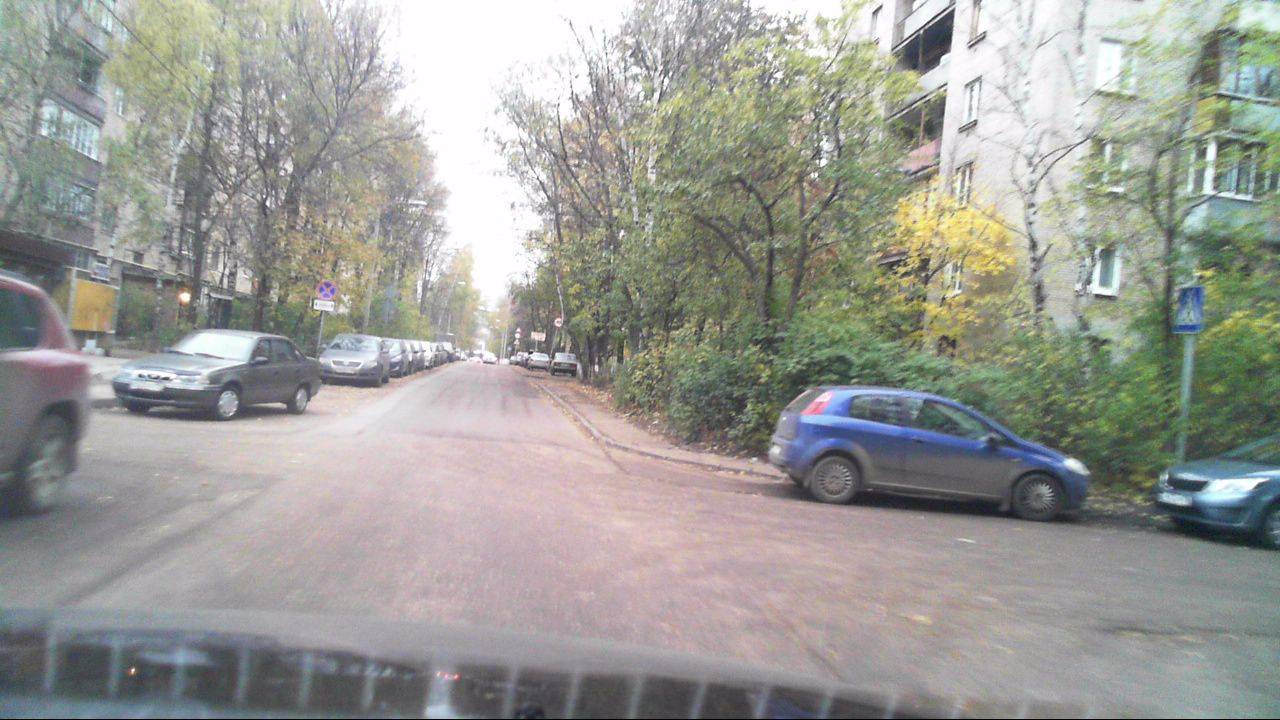No Parking: (315, 280, 336, 300)
